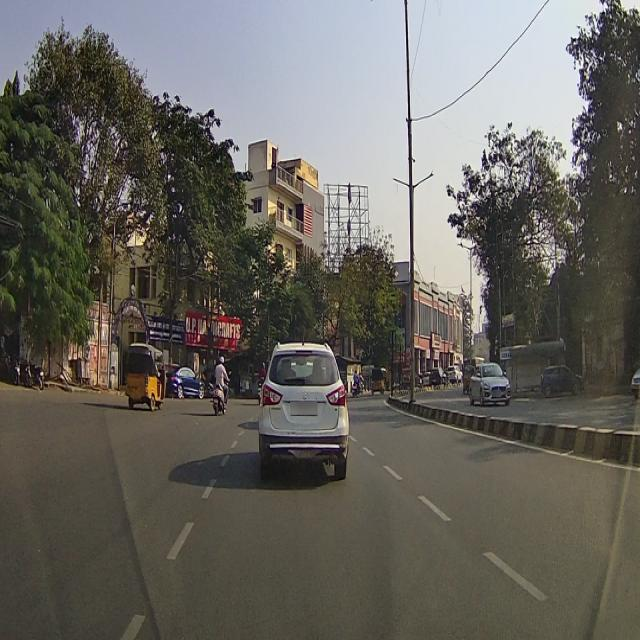auto ahead at: (122, 338, 172, 415)
car ahead at: (252, 334, 354, 483)
motorcycle ahead at: (204, 370, 233, 420)
